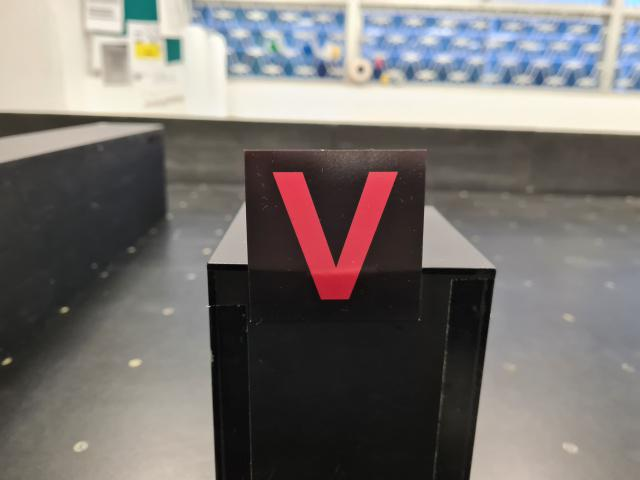v: (243, 148, 427, 326)
